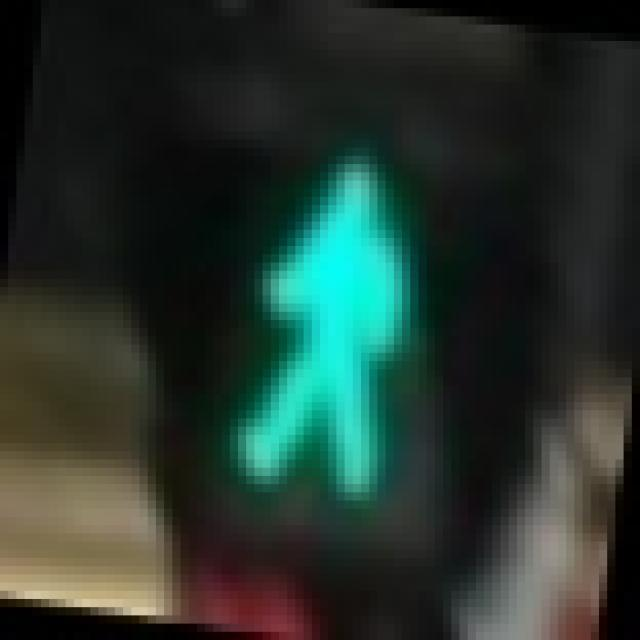geen-crossing: (81, 74, 534, 550)
